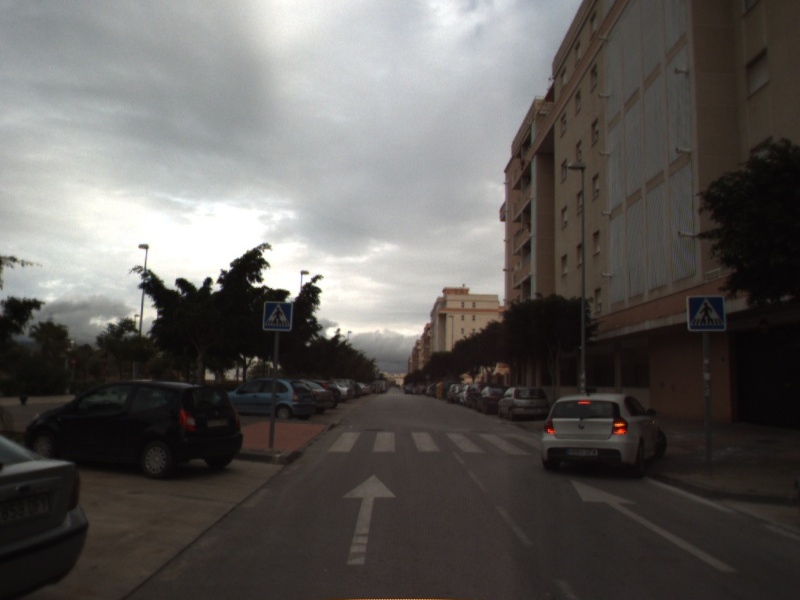STRAIGHT: (569, 477, 739, 574), (340, 472, 399, 567)
